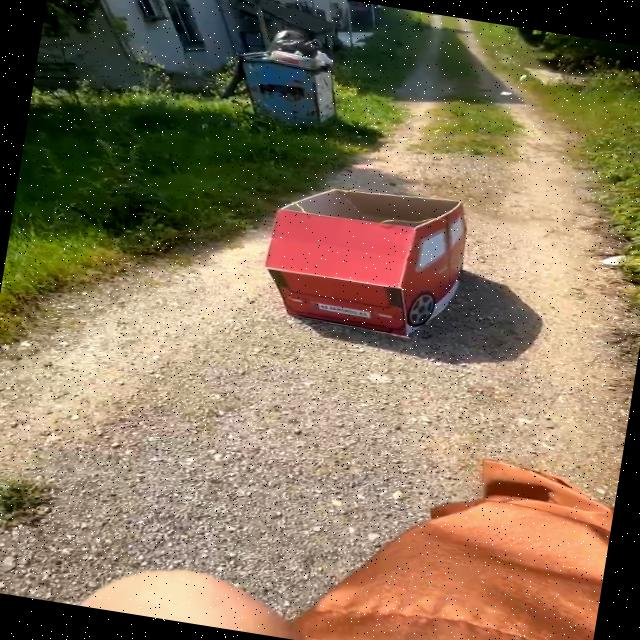red_car: (238, 160, 496, 363)
